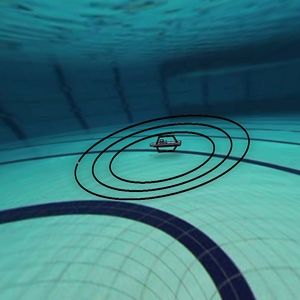circle: (63, 101, 260, 211)
submarine: (144, 124, 192, 163)
